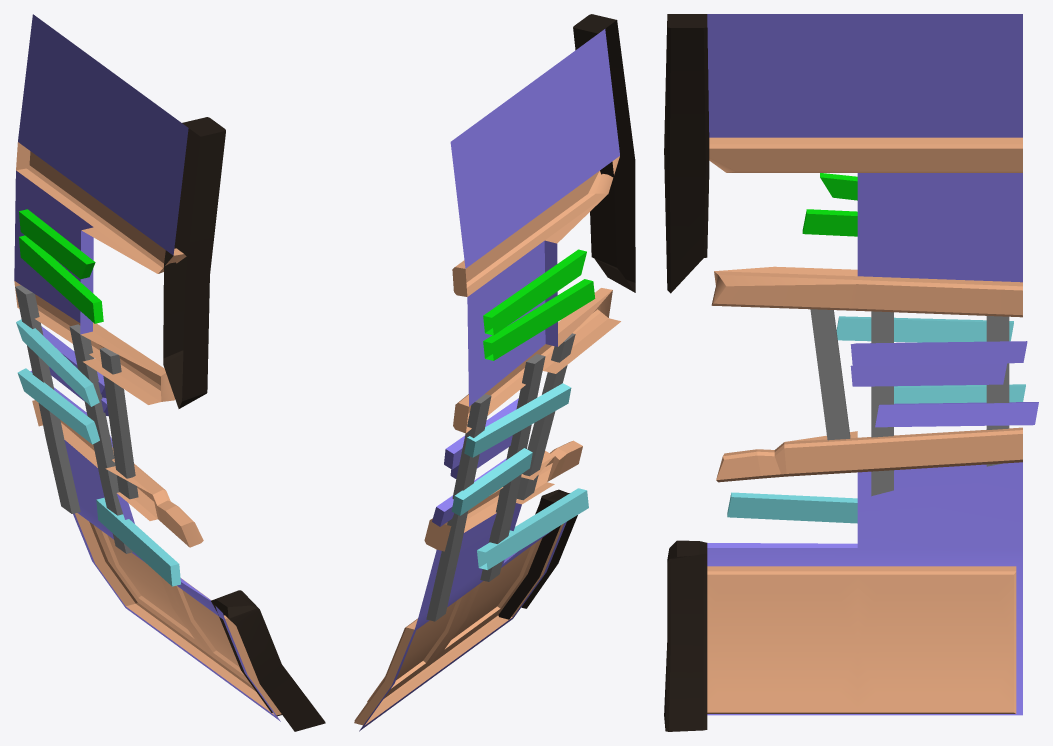
The model's file is Curved_wall_broken_02.fbx.
The picture shows the model from 3 angles, left to right: view 1: azimuth 30°, elevation 25°; view 2: azimuth 150°, elevation 25°; view 3: azimuth 270°, elevation 25°; orthographic projection. The views are drawn at different scales.
Visible parts, largest first — view 1: Object011; view 2: Object011; view 3: Object011.
Part boxes in pixels (bbox=[...]): Object011: bbox=[14, 14, 325, 731]; Object011: bbox=[354, 14, 635, 731]; Object011: bbox=[664, 14, 1038, 731].
Bounding box in the file's own units: 0.6235 × 2.2 × 1.14.
